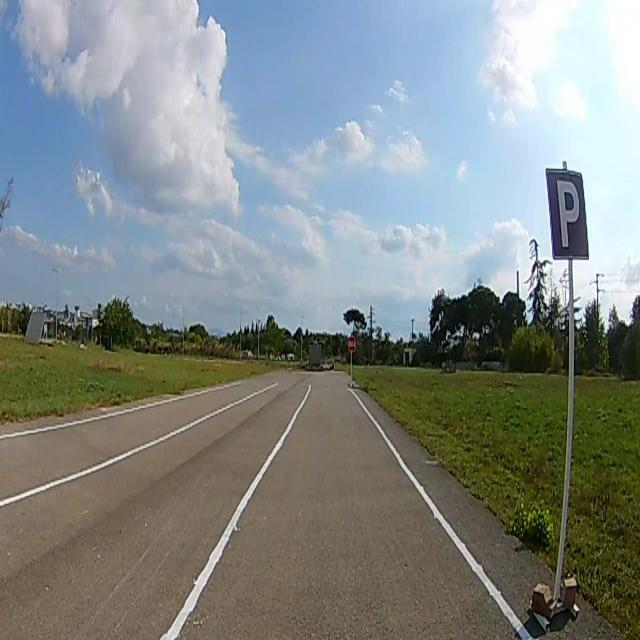park: (545, 164, 587, 256)
